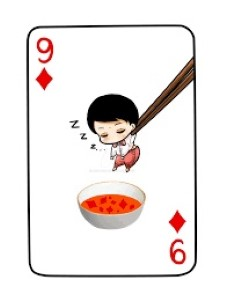NineOfDiamonds: (19, 16, 200, 286)
